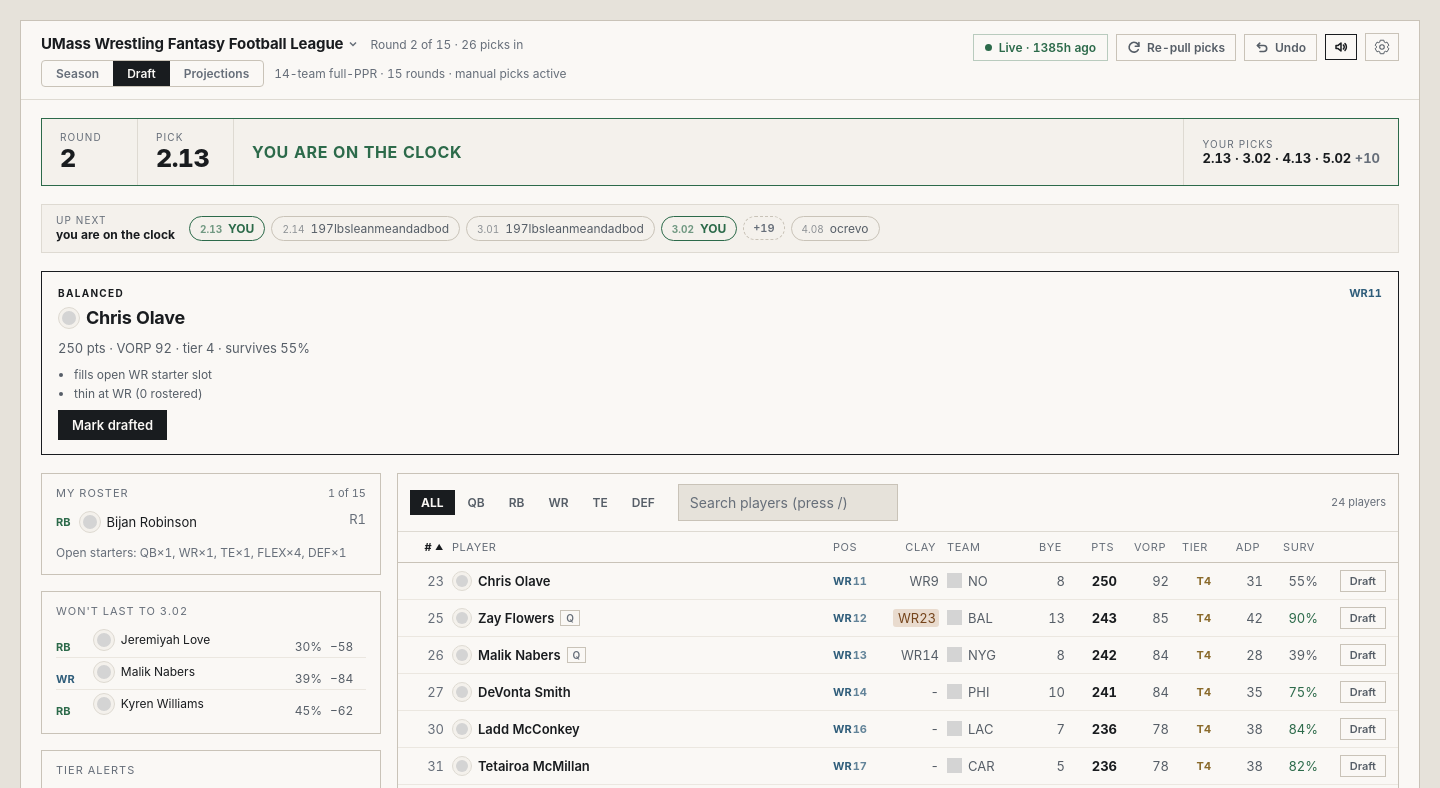
Test: App live workflow › shows a season load failure as an error with a working retry
Check: the heading "UMass Wrestling Fantasy Football League" is shown, box x1=41 y1=33 x2=358 y2=54
Click the button "Season" at {"x": 78, "y": 74}, box x1=42 y1=61 x2=113 y2=86
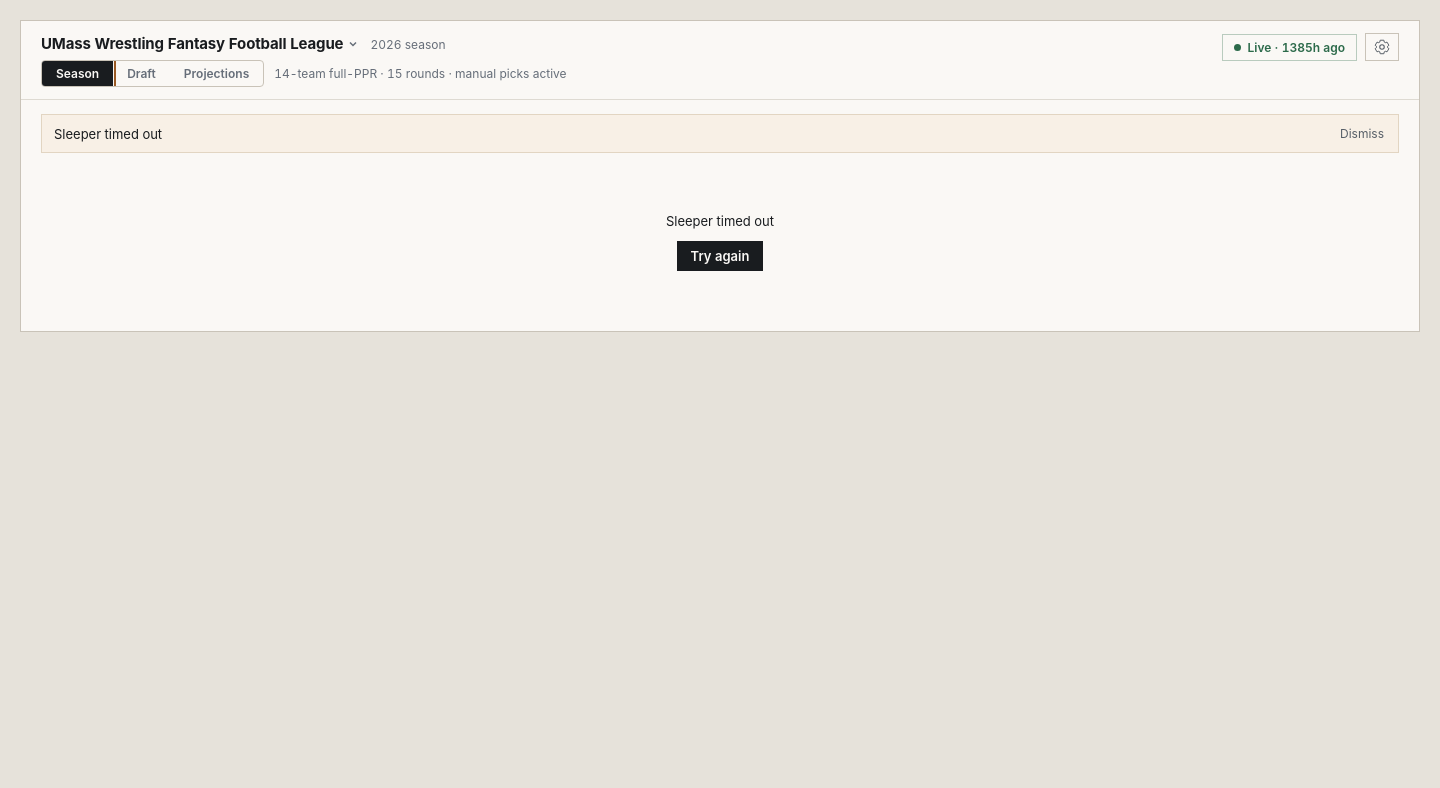
Check: the text "Sleeper timed out" is shown 2 times, box x1=54 y1=126 x2=162 y2=142; x1=666 y1=213 x2=774 y2=229
Click the button "Try again" at {"x": 720, "y": 256}, box x1=677 y1=241 x2=763 y2=271
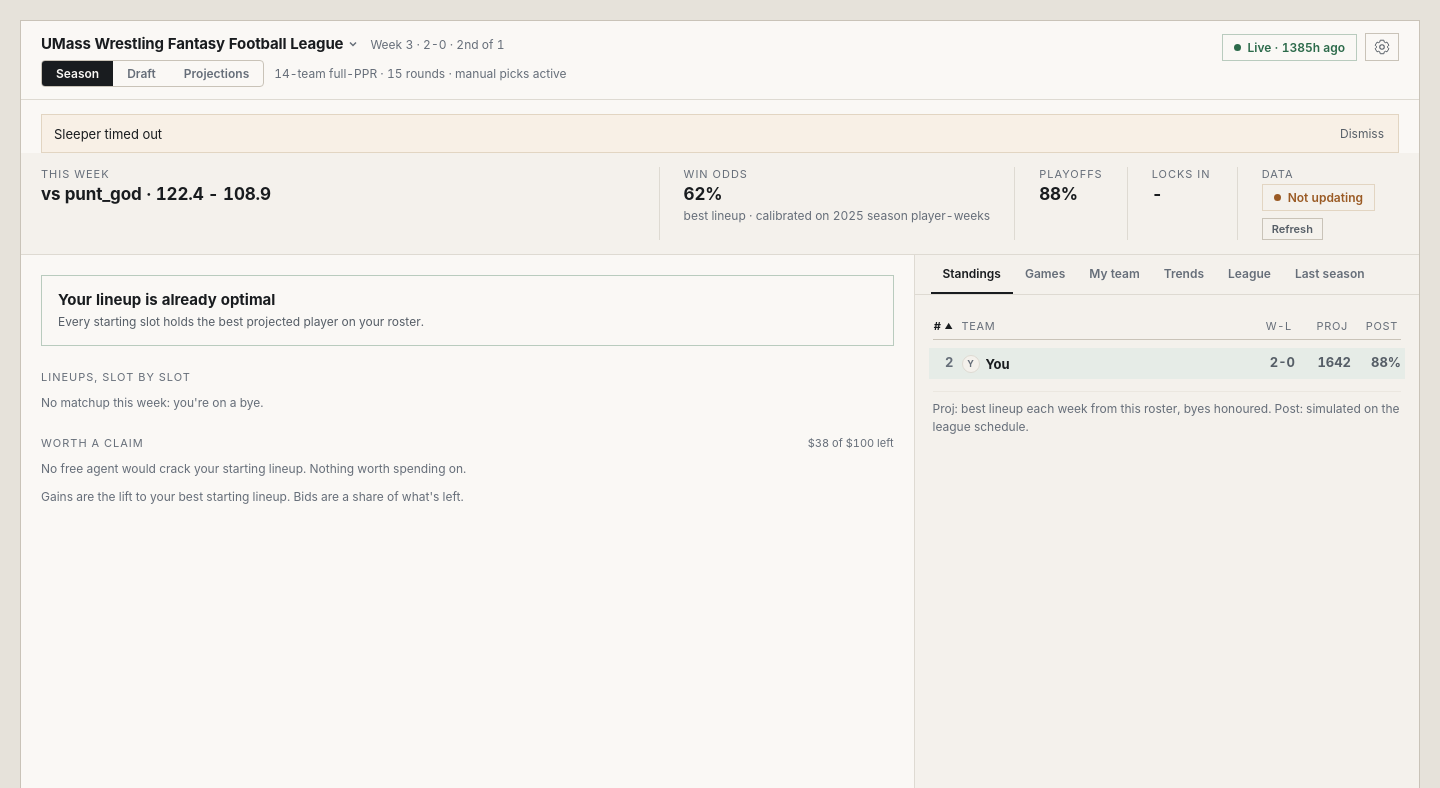
Check: the text "vs punt_god · 122.4 - 108.9" is shown, box x1=41 y1=184 x2=271 y2=204
